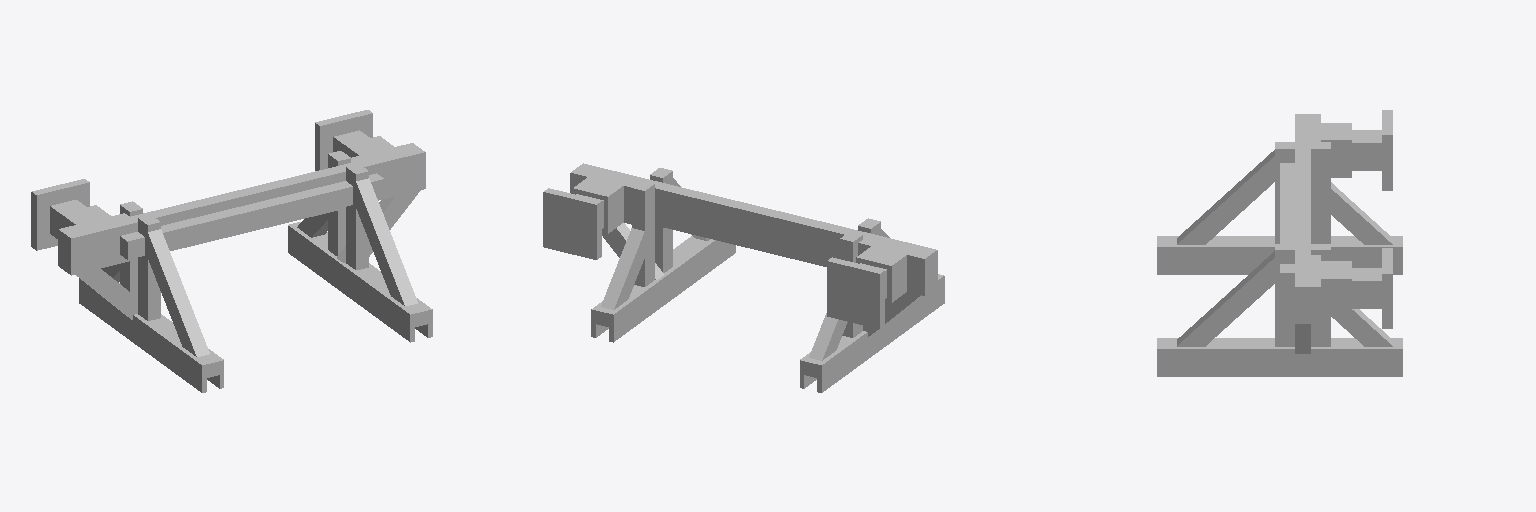
Rendered from wide_buffer_stop.obj.
3 renders of one model, left to right at view 1: azimuth 30°, elevation 25°; view 2: azimuth 150°, elevation 25°; view 3: azimuth 270°, elevation 25°, orthographic.
Parts seen in each view (by area): view 1: cube.021, cube.024, cube.005, cube.022, cube.020, cube.023, cube.028, cube.036, cube.001, cube.012, cube.027, cube.035 (+18 smaller); view 2: cube.025, cube.026, cube.001, cube.005, cube.008, cube.009, cube.012, cube.016, cube.033, cube.003, cube.007, cube.006 (+10 smaller); view 3: cube.011, cube.030, cube.014, cube.003, cube.038, cube.015, cube.027, cube.028, cube.036, cube.031, cube.042, cube.017 (+19 smaller).
Part boxes in pixels (x1,y1,x2,y2): cube.021: (63, 210, 163, 275); cube.024: (325, 147, 425, 211); cube.005: (31, 179, 89, 250); cube.022: (120, 213, 220, 259); cube.020: (284, 173, 383, 219); cube.023: (213, 196, 290, 236); cube.028: (356, 178, 396, 259); cube.036: (148, 229, 188, 310); cube.001: (315, 110, 372, 170); cube.012: (288, 224, 340, 289); cube.027: (346, 164, 368, 269); cube.035: (138, 215, 160, 320); cube.025: (668, 186, 759, 248); cube.026: (753, 207, 843, 266); cube.001: (543, 188, 601, 259); cube.005: (827, 257, 884, 328); cube.008: (632, 181, 654, 286); cube.009: (601, 228, 644, 309); cube.012: (609, 277, 664, 342); cube.016: (817, 331, 872, 392); cube.033: (662, 243, 710, 304); cube.003: (573, 177, 623, 233); cube.007: (856, 246, 906, 302); cube.006: (858, 239, 929, 295); cube.011: (1300, 347, 1402, 376); cube.030: (1208, 347, 1299, 376); cube.014: (1311, 142, 1330, 243); cube.003: (1321, 261, 1351, 315); cube.038: (1208, 245, 1274, 274); cube.015: (1331, 182, 1392, 244); cube.027: (1275, 244, 1294, 346); cube.028: (1219, 251, 1274, 320); cube.036: (1219, 150, 1274, 219); cube.031: (1157, 347, 1207, 376); cube.042: (1157, 245, 1207, 274); cube.017: (1331, 245, 1402, 274).
Bounding box in the file's own units: 5 × 1.73 × 3.